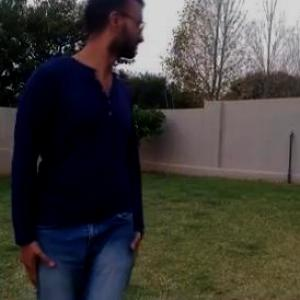follow: (9, 0, 149, 299)
